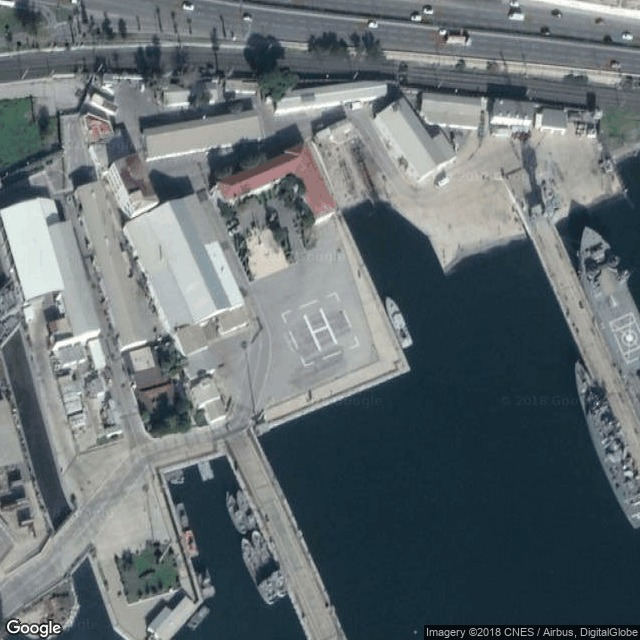heliport: (296, 301, 343, 356)
